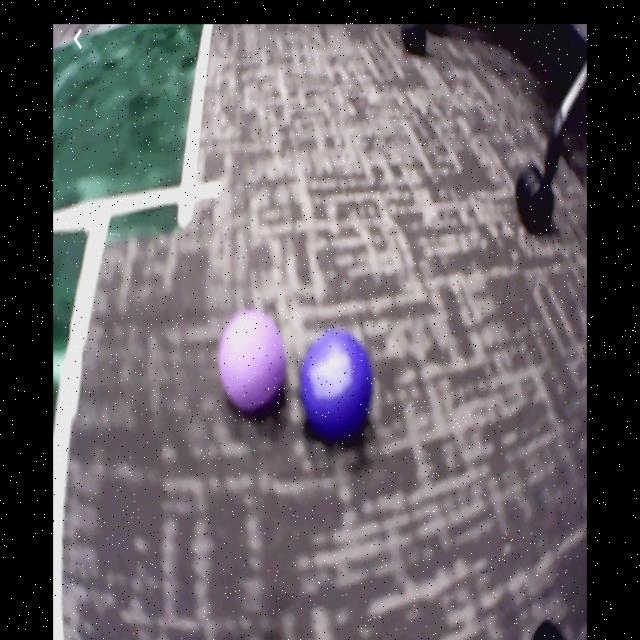ball: (300, 330, 374, 448), (218, 312, 285, 411)
